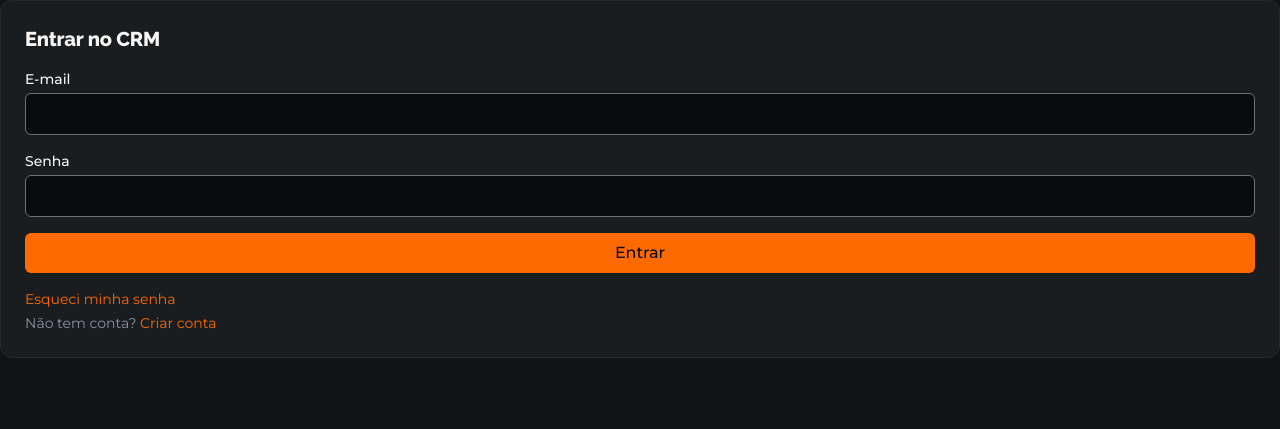
Test: Login › exibe a frase genérica quando as credenciais não servem
Type "joana@exemplo.com" into the field labelled "E-mail" at {"x": 640, "y": 114}, box [25,93,1255,135]
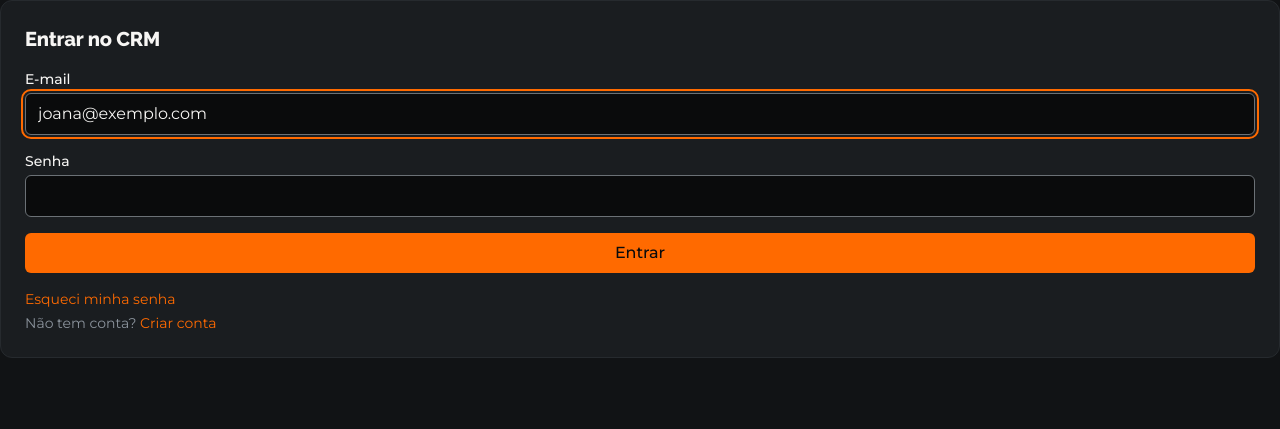
Type "senha-valida" into the password field labelled "Senha" at {"x": 640, "y": 196}, box [25,175,1255,217]
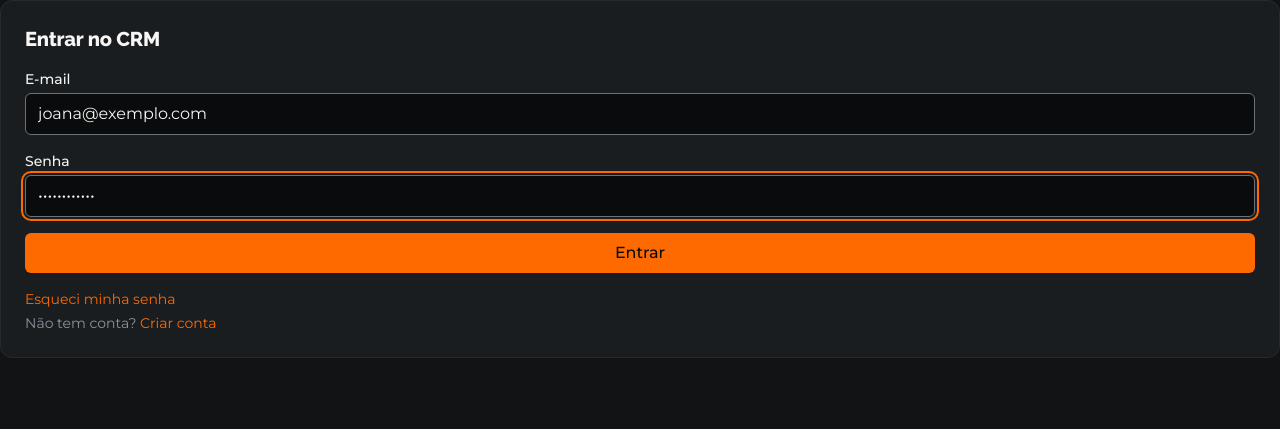
Click the button "Entrar" at {"x": 640, "y": 253}, box [25,233,1255,273]
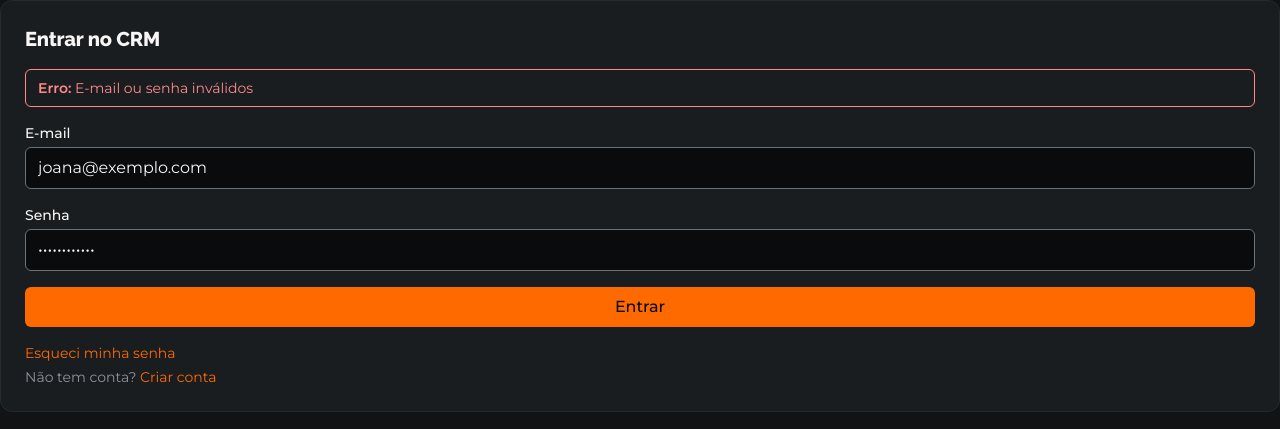
Result: the message shows "E-mail ou senha inválidos" at [75,79,253,97]
